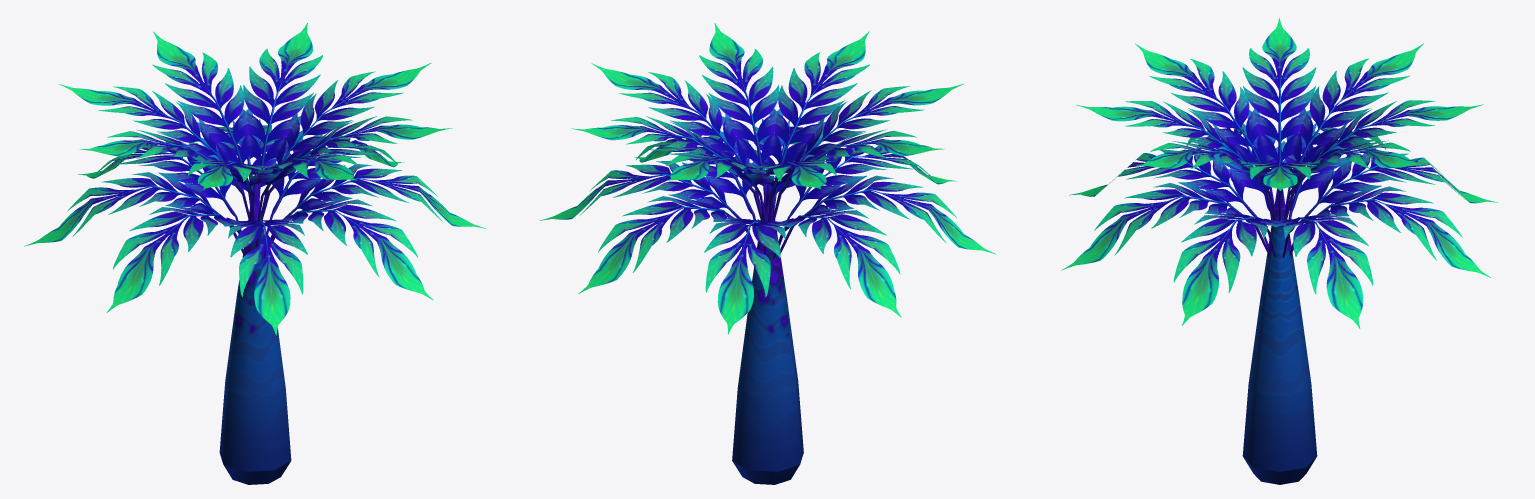
Rendered from Blue_Tree_07b.FBX.
The picture shows the model from 3 angles, left to right: view 1: azimuth 30°, elevation 25°; view 2: azimuth 150°, elevation 25°; view 3: azimuth 270°, elevation 25°; orthographic projection.
Visible parts, largest first — view 1: Blue_Tree_07b; view 2: Blue_Tree_07b; view 3: Blue_Tree_07b.
Part boxes in pixels (x1=…): Blue_Tree_07b: x1=24, y1=23, x2=486, y2=484; Blue_Tree_07b: x1=539, y1=23, x2=996, y2=484; Blue_Tree_07b: x1=1061, y1=18, x2=1498, y2=484.
Bounding box in the file's own units: 477 × 414 × 477.
